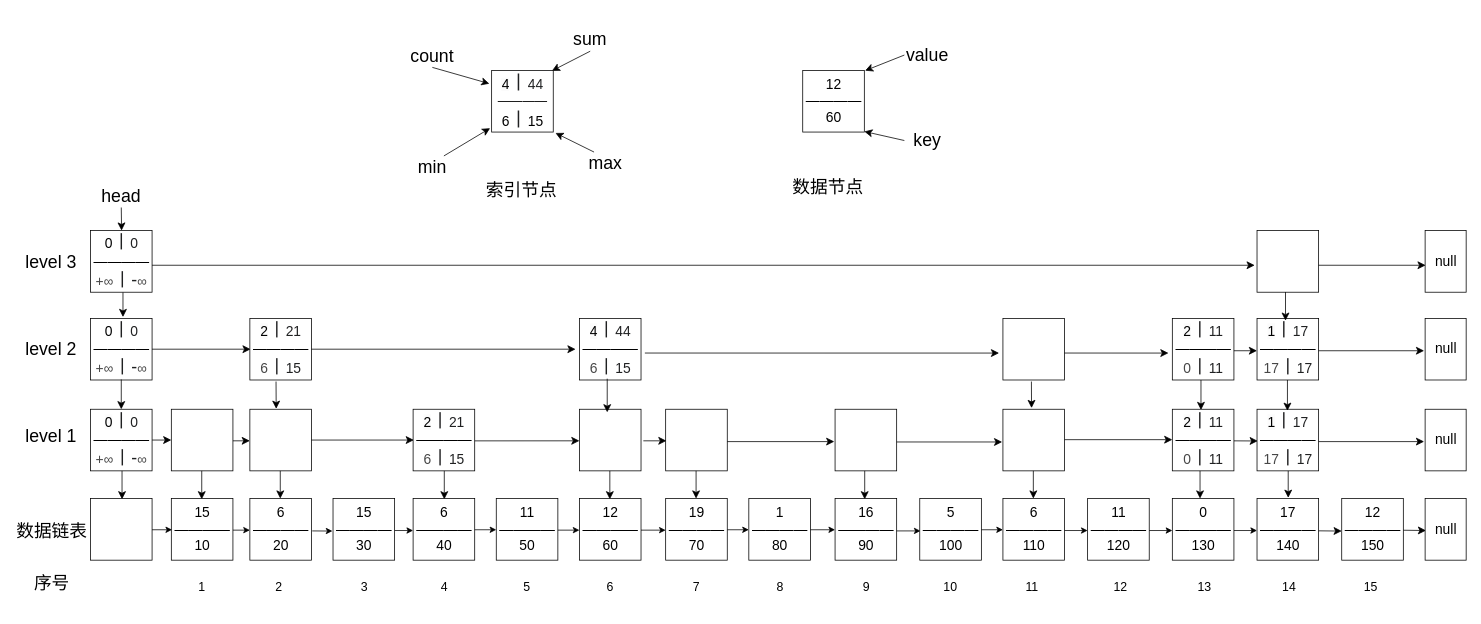
This 1481x624 diagram has some shape labels left out. The shapes that lost their labels are listed below. From the top down, each one's centre as x and y in pixels, then its label:
At [1287,261]: "14 丨 140 ———— 0 丨 19".
At [1033,349]: "5 丨 47 ———— 1 丨 19".
At [202,439]: "1 丨 15 ———— 15 丨 15".
At [280,439]: "1 丨 6 ———— 6 丨 6".
At [610,439]: "2 丨 23 ———— 11 丨 12".
At [696,439]: "1 丨 19 ———— 19 丨 19".
At [865,439]: "2 丨 17 ———— 1 丨 16".
At [1033,439]: "2 丨 11 ———— 5 丨 6".
At [121,529]: "null ———— null".
